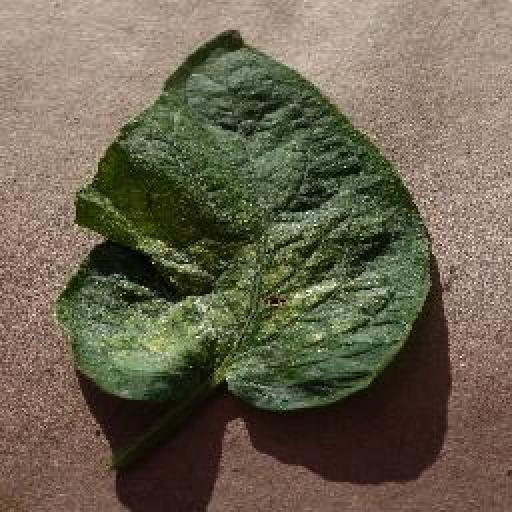disease_tomato: (56, 30, 430, 414)
